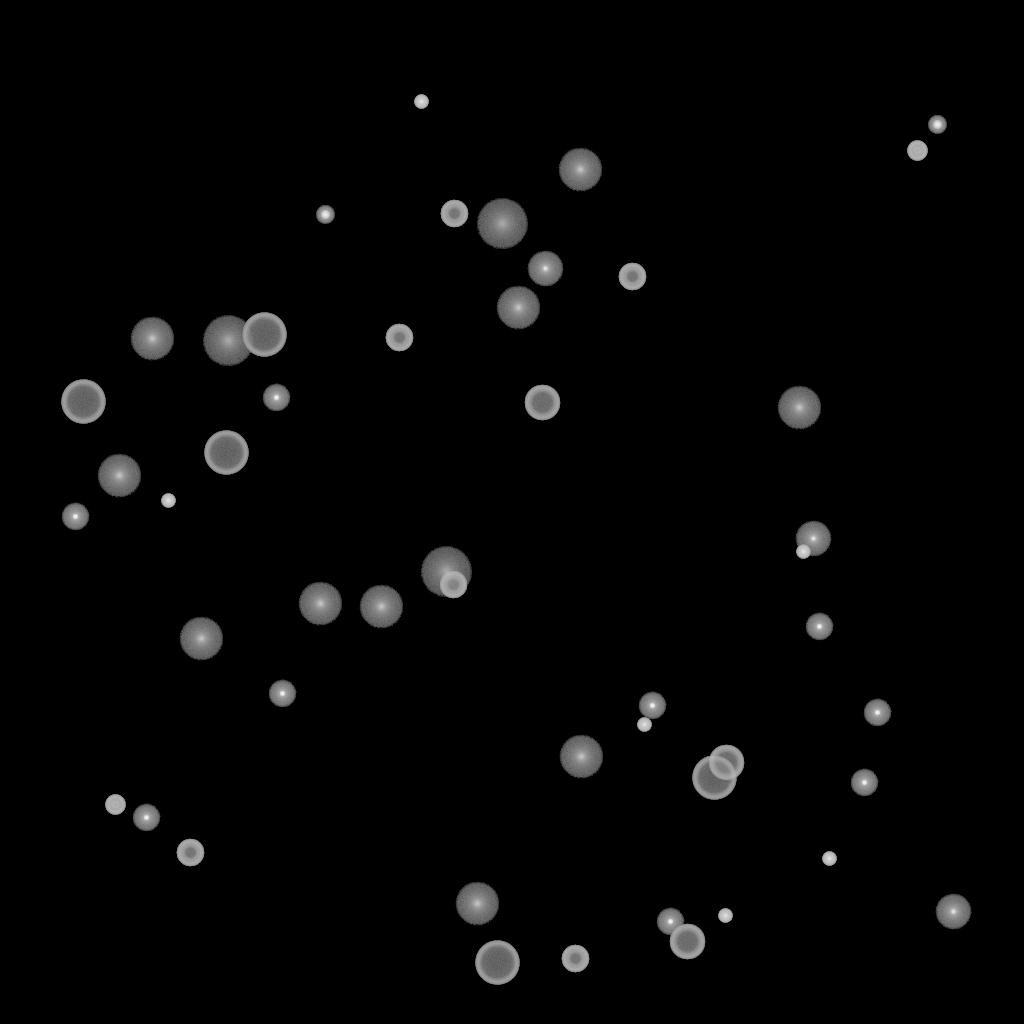depth:-10: (268, 680, 296, 708), (805, 613, 833, 641), (262, 384, 290, 412), (132, 804, 160, 832), (850, 769, 878, 797), (61, 503, 89, 531), (863, 699, 891, 727), (656, 908, 684, 936), (638, 692, 666, 720)
depth:-20: (316, 206, 334, 224), (928, 116, 946, 134)
depth:-30: (414, 95, 428, 109), (161, 494, 175, 508), (822, 852, 836, 866), (637, 718, 651, 732), (718, 909, 732, 923), (796, 545, 810, 559)
depth:-40: (907, 141, 927, 161), (105, 795, 125, 815)
depth:-50: (439, 571, 467, 599), (561, 945, 589, 973), (440, 200, 468, 228), (618, 263, 646, 291), (176, 839, 204, 867), (385, 324, 413, 352)
depth:-60: (669, 924, 705, 960), (524, 385, 560, 421), (708, 745, 744, 781)
depth:-70: (204, 431, 248, 475), (61, 380, 105, 424), (242, 313, 286, 357), (692, 756, 736, 800), (475, 941, 519, 985)
depth:0: (527, 251, 563, 287), (935, 894, 971, 930), (795, 521, 831, 557)
depth:10: (558, 148, 602, 192), (298, 582, 342, 626), (130, 317, 174, 361), (777, 386, 821, 430), (97, 454, 141, 498), (179, 617, 223, 661), (496, 286, 540, 330), (455, 882, 499, 926), (359, 585, 403, 629), (559, 735, 603, 779)
depth:20: (476, 199, 528, 249), (420, 547, 472, 597), (202, 316, 254, 366)
